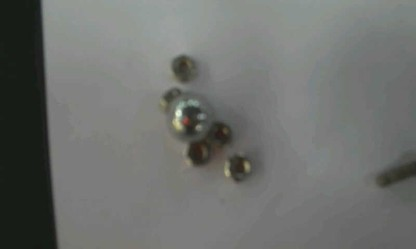ironball: (167, 91, 212, 142)
